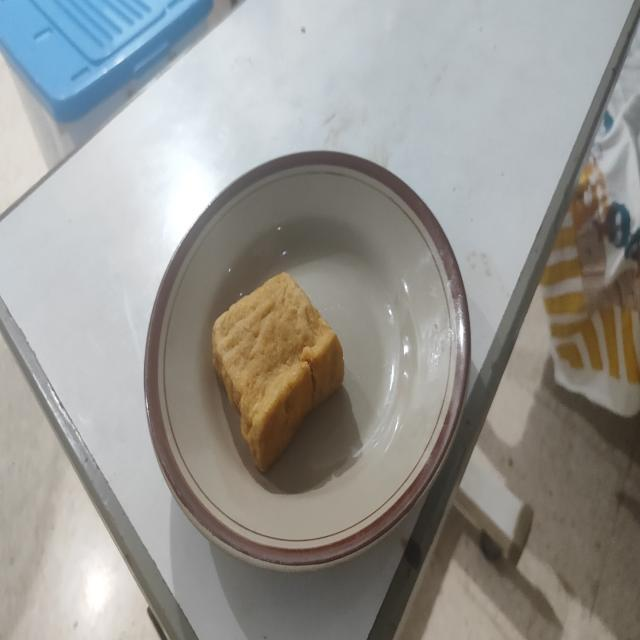tahu_goreng: (212, 273, 344, 472)
